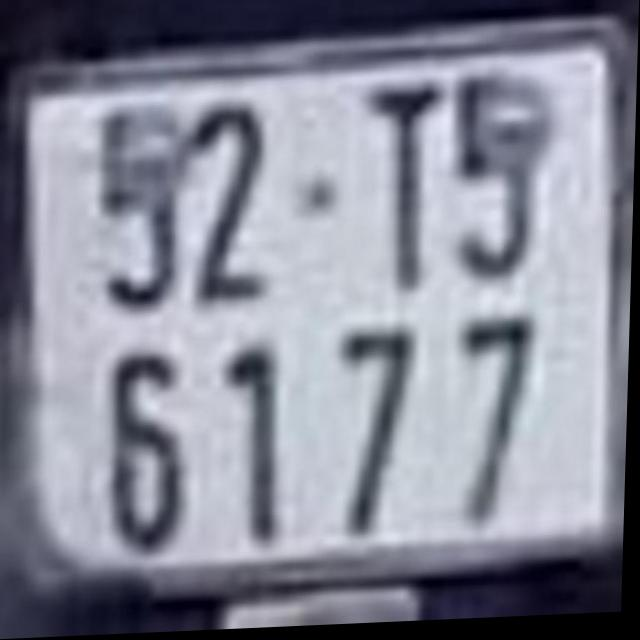1: (220, 347, 300, 548)
2: (191, 108, 274, 302)
5: (448, 81, 543, 275), (93, 117, 183, 313)
6: (110, 360, 202, 559)
7: (336, 331, 415, 541), (462, 316, 529, 535)
T: (366, 89, 443, 300)
